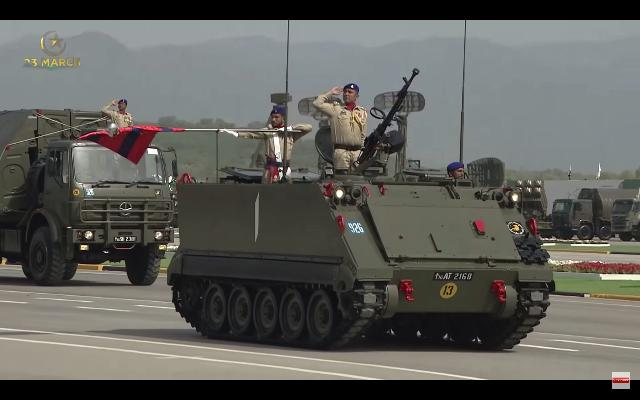plate: (432, 270, 474, 282)
